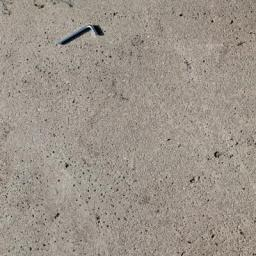FOD: (58, 24, 102, 50)
